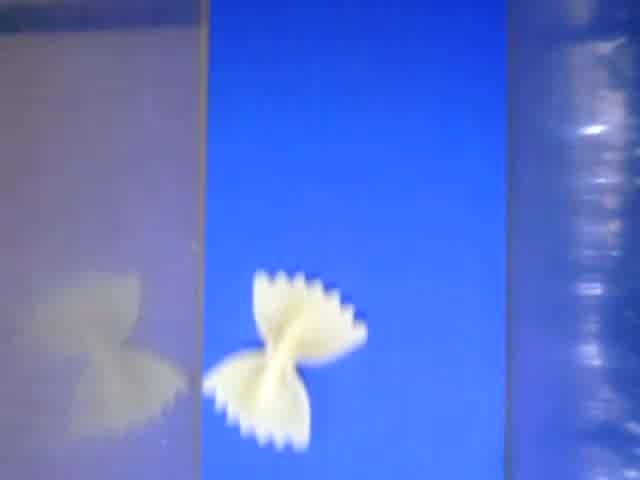farfalle: (202, 268, 369, 452)
